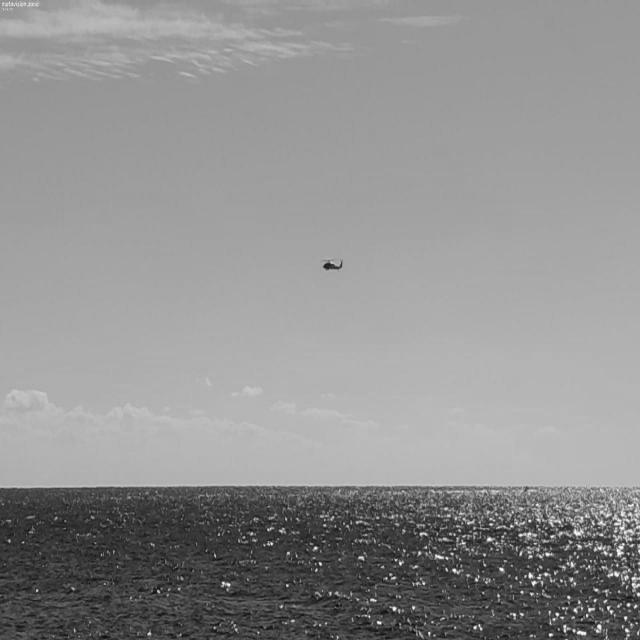helikopter: (301, 220, 382, 310)
